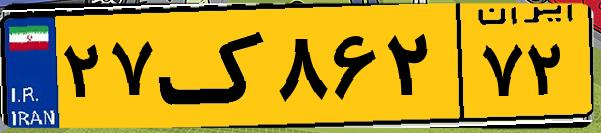2: (385, 28, 445, 110), (57, 26, 110, 100), (525, 38, 570, 115)
6: (330, 28, 385, 110)
7: (475, 38, 525, 113), (110, 28, 158, 98)
8: (270, 28, 330, 110)
ک: (158, 12, 270, 120)
